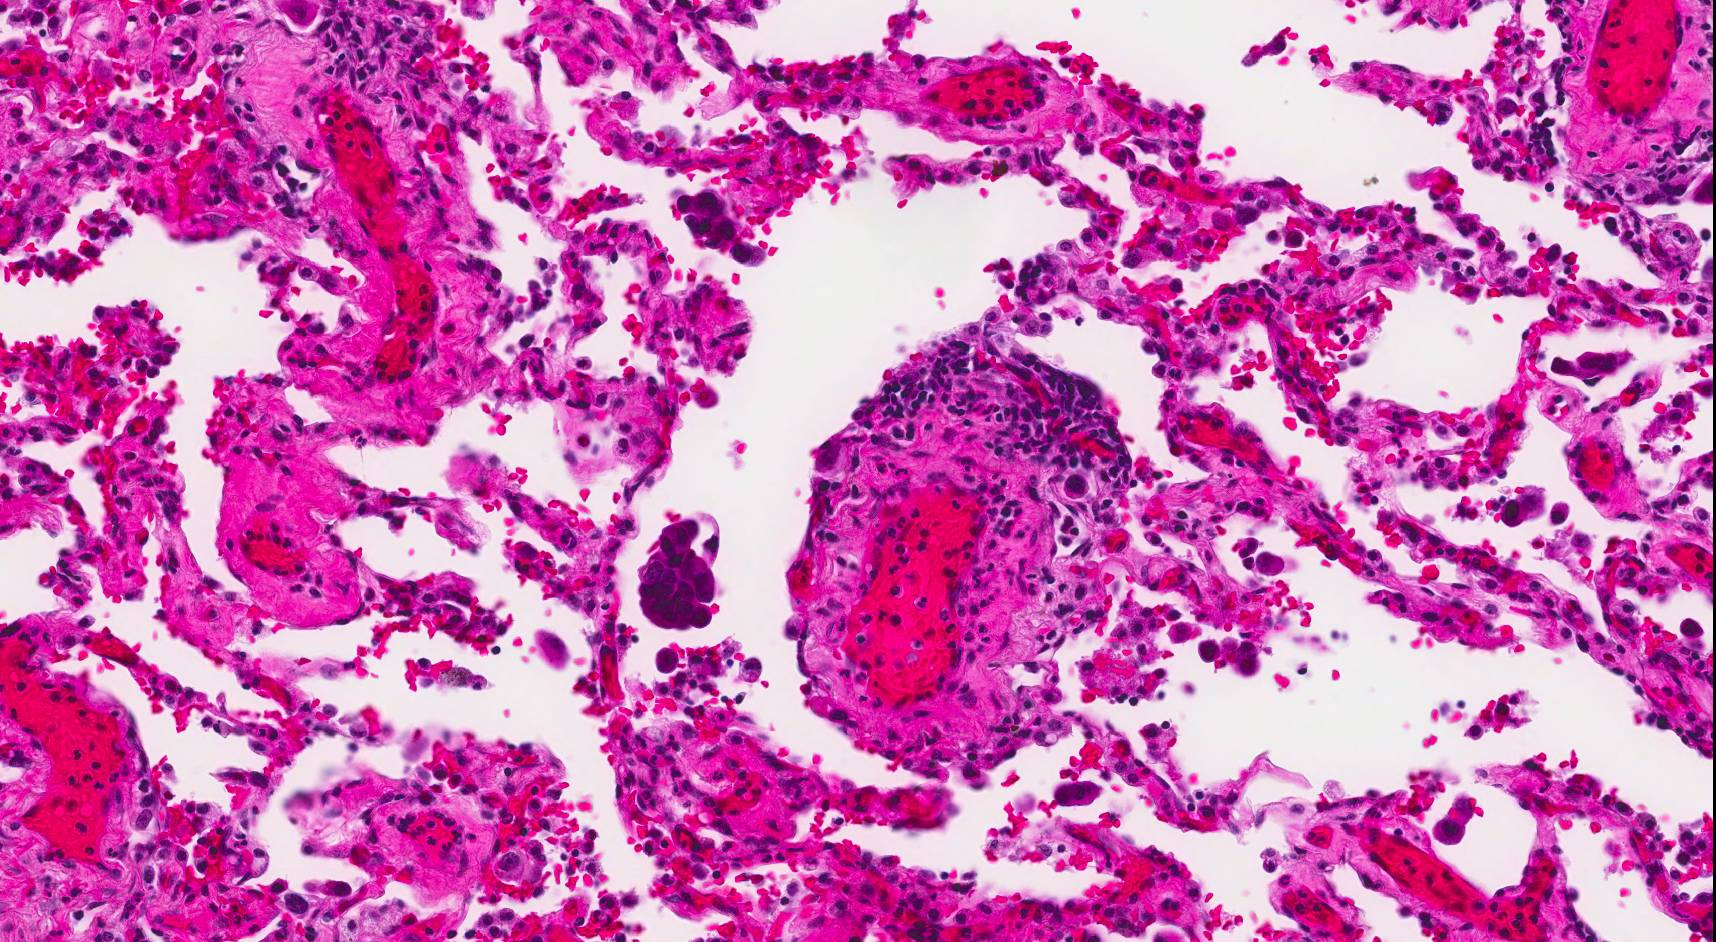stas: (639, 517, 720, 629), (676, 190, 767, 265)
